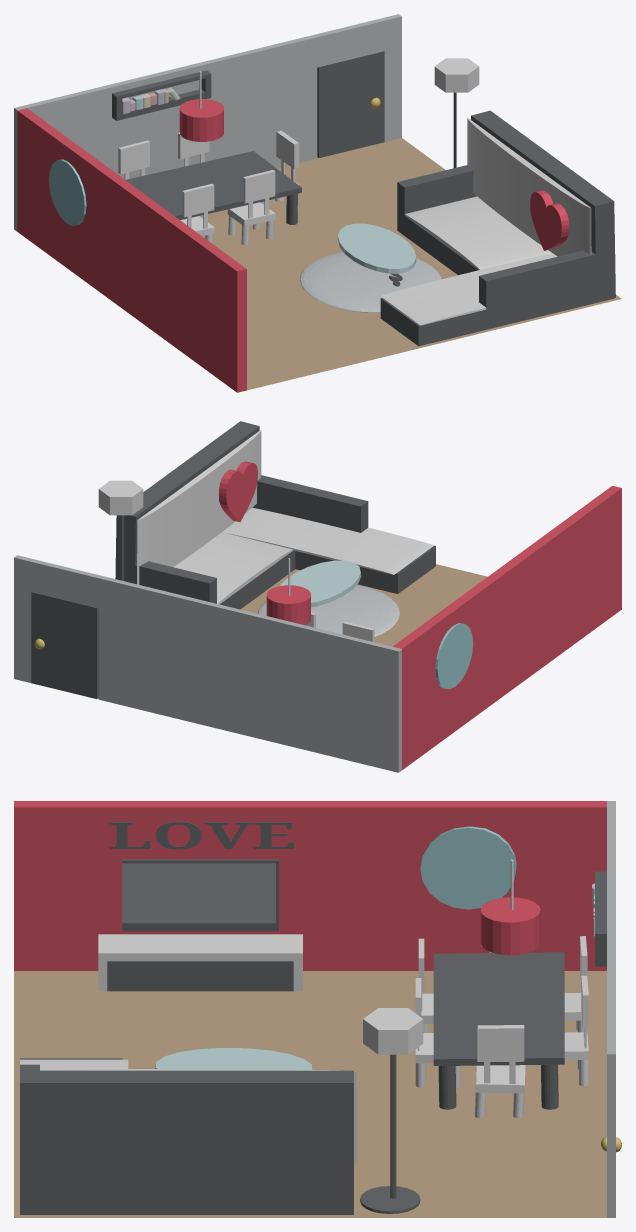
File: Comedor.glb
3 renders of one model, top to bottom at view 1: azimuth 30°, elevation 25°; view 2: azimuth 150°, elevation 25°; view 3: azimuth 270°, elevation 25°, orthographic. The views are drawn at different scales.
Visible parts, largest first — view 1: Mesh_Mesh_head_geo.001_lambert2SG.001; view 2: Mesh_Mesh_head_geo.001_lambert2SG.001; view 3: Mesh_Mesh_head_geo.001_lambert2SG.001.
Part boxes in pixels (left/top/right/bottom): Mesh_Mesh_head_geo.001_lambert2SG.001: left=14, top=14, right=621, bottom=392; Mesh_Mesh_head_geo.001_lambert2SG.001: left=14, top=421, right=621, bottom=772; Mesh_Mesh_head_geo.001_lambert2SG.001: left=14, top=801, right=621, bottom=1217.
Bounding box in the file's own units: 200 × 76 × 202.
